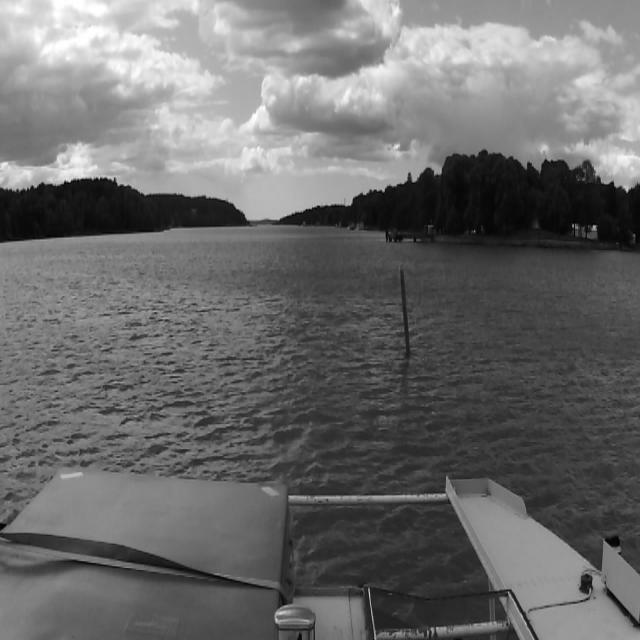buoy: (398, 264, 409, 352)
